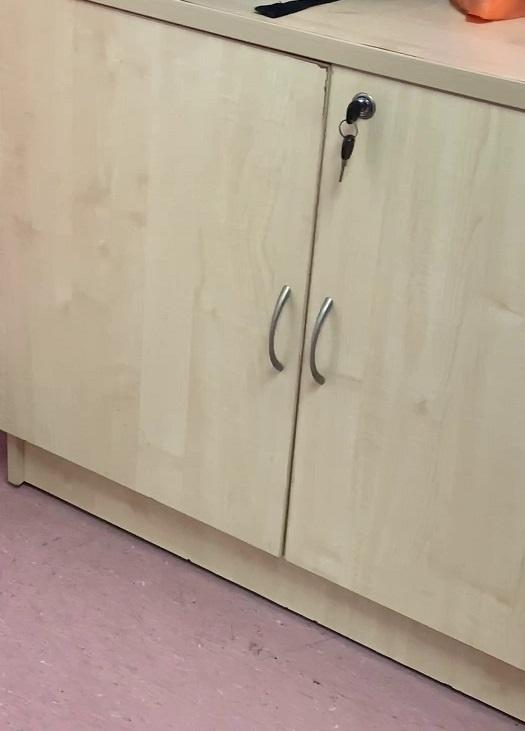cabinet_door: (4, 41, 314, 522), (300, 93, 522, 603)
handle: (267, 282, 294, 379), (308, 292, 331, 395)
